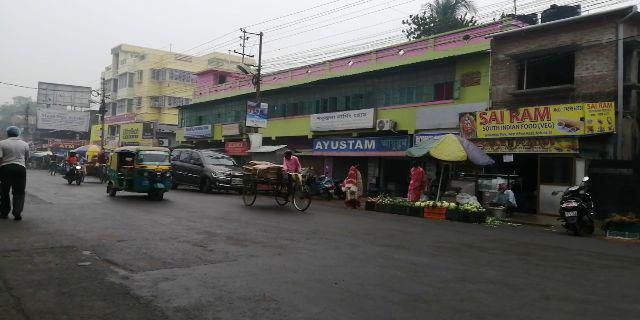Autorickshaw: (111, 145, 173, 202)
Car: (173, 144, 242, 197)
Rickshaw: (240, 162, 316, 209)
